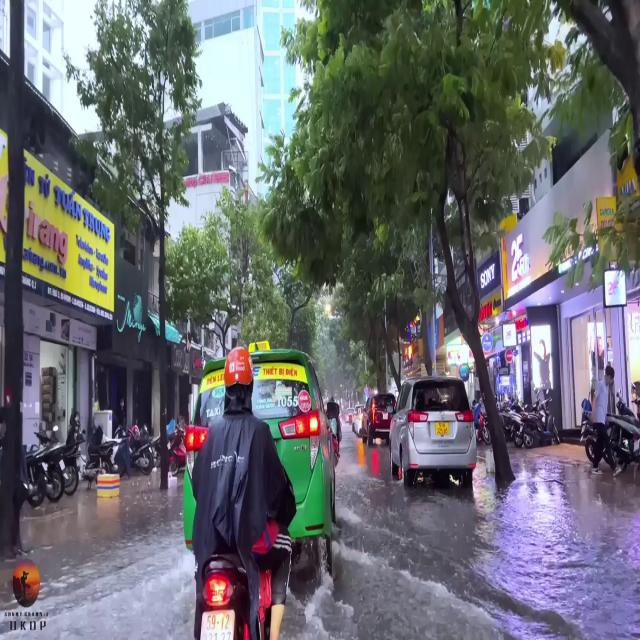bien_vang: (435, 421, 449, 434)
